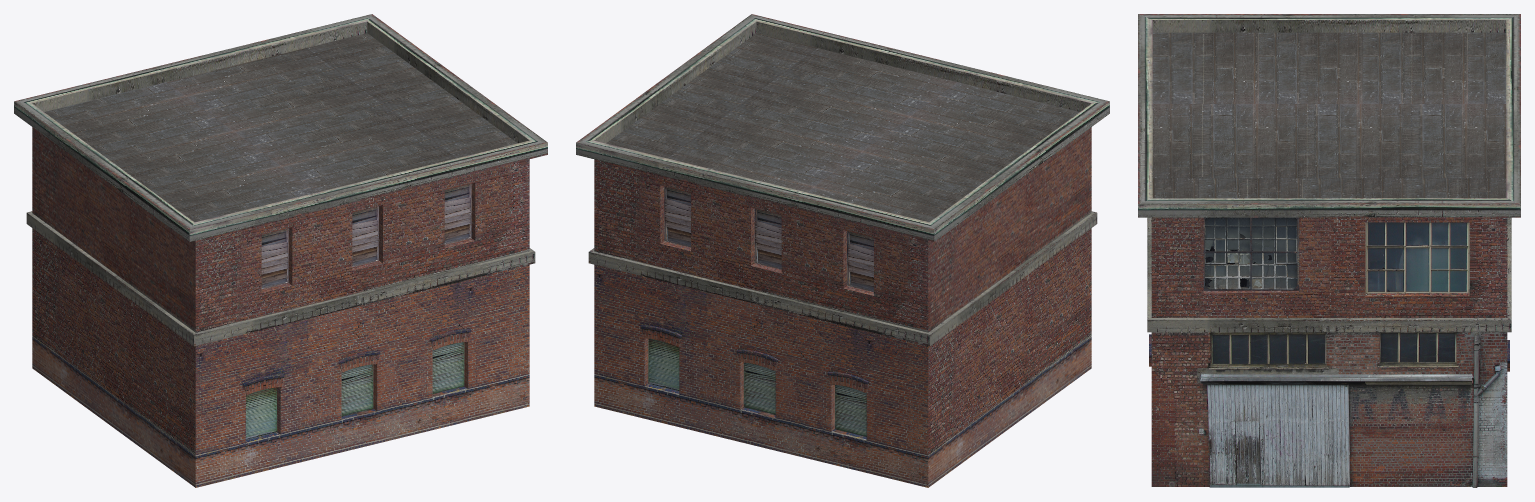
Rendered from Industrial_Building_01.fbx.
3 renders of one model, left to right at view 1: azimuth 30°, elevation 25°; view 2: azimuth 150°, elevation 25°; view 3: azimuth 270°, elevation 25°, orthographic. The views are drawn at different scales.
Visible parts, largest first — view 1: Industrial_Building_01; view 2: Industrial_Building_01; view 3: Industrial_Building_01.
Boxes of the visible parts, x1,y1,x2,y2 form: Industrial_Building_01: (14,14,547,487); Industrial_Building_01: (576,14,1109,487); Industrial_Building_01: (1138,14,1520,487).
Size of the model in its own units: 1683 by 1192 by 1430.
2 materials, 2 textured.
